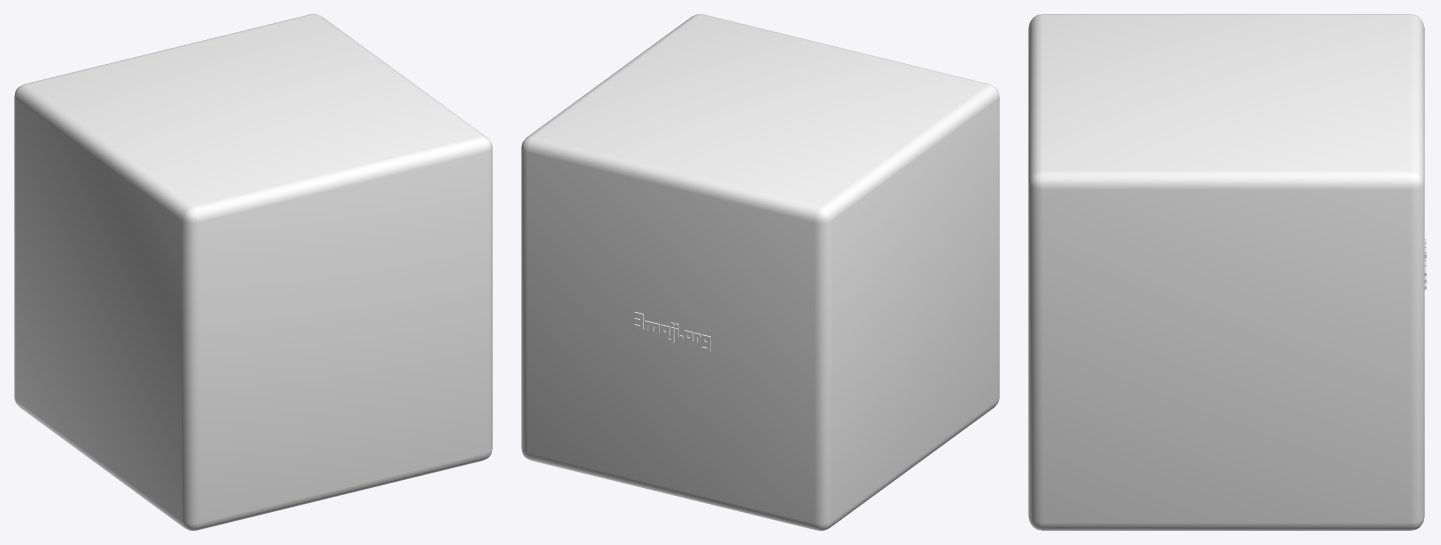
The model's file is white_medium_small_square.fbx.
3 renders of one model, left to right at view 1: azimuth 30°, elevation 25°; view 2: azimuth 150°, elevation 25°; view 3: azimuth 270°, elevation 25°, orthographic. The views are drawn at different scales.
Visible parts, largest first — view 1: brown_square.006; view 2: brown_square.006; view 3: brown_square.006.
Boxes of the visible parts, bbox=[...] form: brown_square.006: bbox=[14, 14, 492, 530]; brown_square.006: bbox=[521, 14, 999, 530]; brown_square.006: bbox=[1028, 14, 1426, 530].
Bounding box in the file's own units: 107 × 107 × 108.
Materials: 1 (1 with a texture image).
